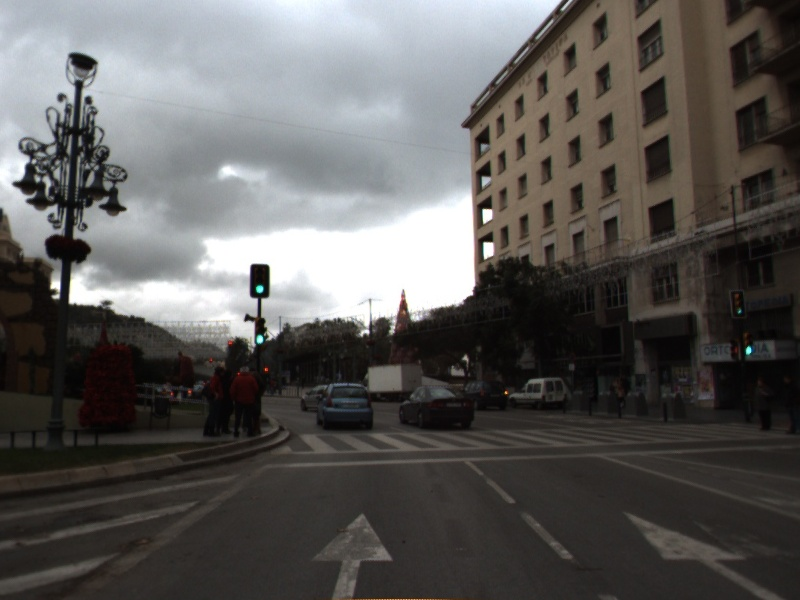STRAIGHT: (618, 507, 787, 600), (306, 509, 398, 600)
